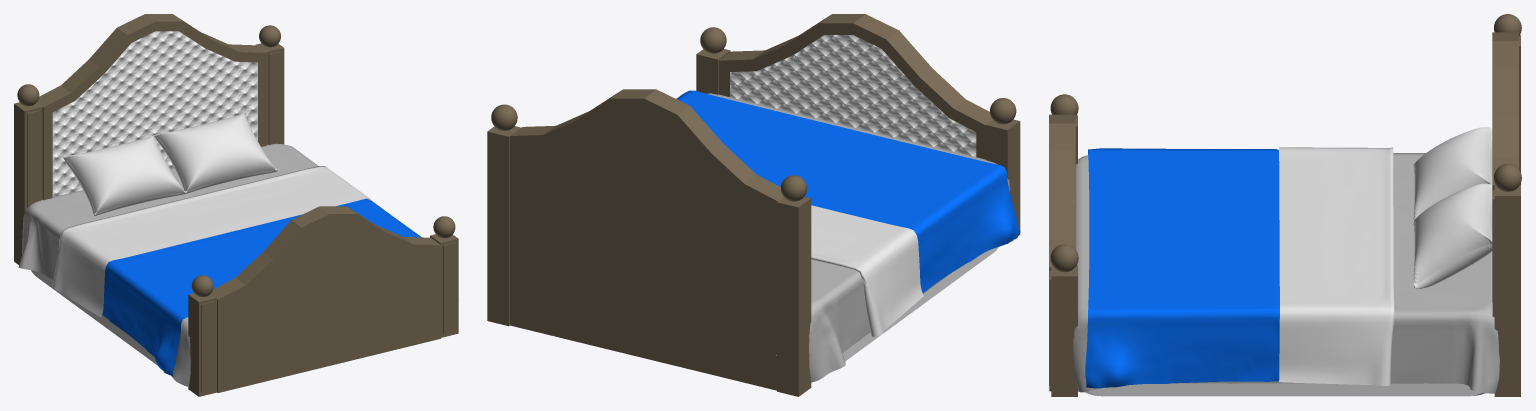
Rendered from BedDesignA.glb.
3 renders of one model, left to right at view 1: azimuth 30°, elevation 25°; view 2: azimuth 150°, elevation 25°; view 3: azimuth 270°, elevation 25°, orthographic. The views are drawn at different scales.
Visible parts, largest first — view 1: BedFrame, Duvet, Cube, BedPosts, Sheet, Pillow.002, Pillow, Mattress; view 2: BedFrame, Duvet, BedPosts, Cube.003, Sheet, Mattress; view 3: Duvet, Sheet, BedPosts, BedFrame, Pillow.002, Mattress, Pillow.
Boxes of the visible parts, box(x1,y1,x2,y2) form: BedFrame: box(37, 14, 441, 392); Duvet: box(52, 166, 421, 376); Cube: box(52, 31, 257, 197); BedPosts: box(14, 25, 458, 396); Sheet: box(18, 143, 318, 386); Pillow.002: box(155, 112, 277, 194); Pillow: box(63, 135, 186, 216); Mattress: box(31, 270, 157, 365); BedFrame: box(510, 14, 992, 390); Duvet: box(676, 90, 1020, 336); BedPosts: box(487, 27, 1020, 396); Cube.003: box(730, 35, 976, 156); Sheet: box(707, 93, 1013, 382); Mattress: box(817, 247, 998, 380); Duvet: box(1085, 147, 1394, 388); Sheet: box(1073, 153, 1499, 393); BedPosts: box(1049, 14, 1521, 396); BedFrame: box(1049, 32, 1518, 385); Pillow.002: box(1413, 183, 1492, 289); Mattress: box(1084, 383, 1485, 396); Pillow: box(1413, 127, 1492, 231).
Bounding box in the file's own units: 4.89 × 3.46 × 5.33.
